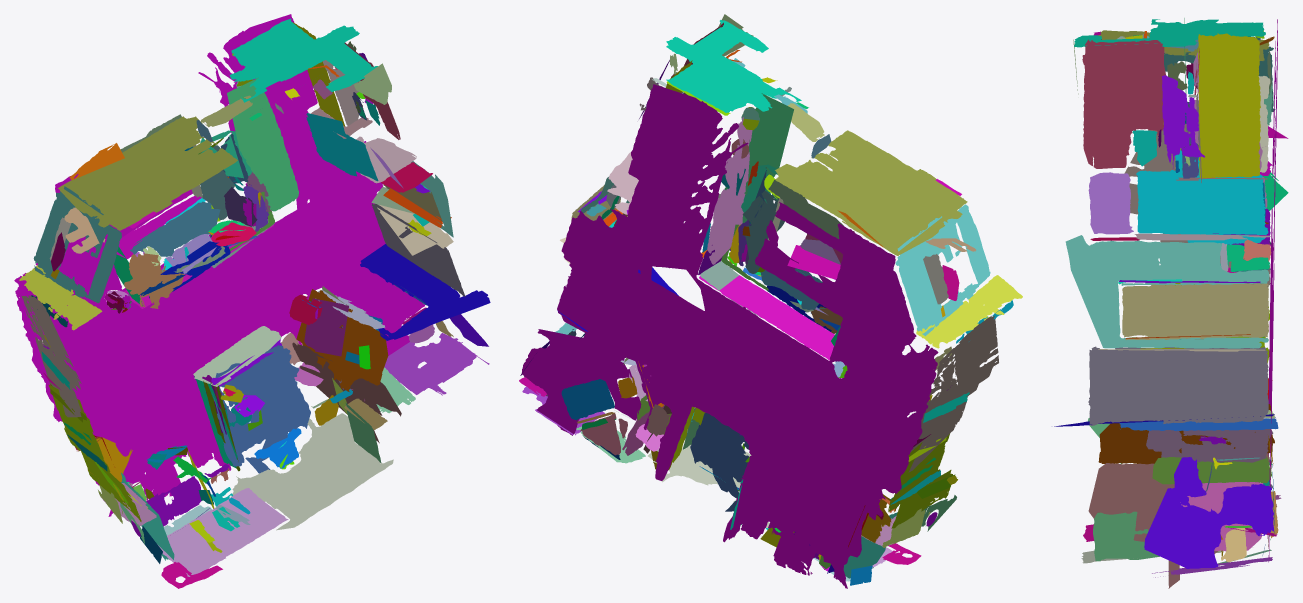
The model's file is neuralplane_scene0000.glb.
3 views of the same model, side by side, from view 1: azimuth 30°, elevation 25°; view 2: azimuth 150°, elevation 25°; view 3: azimuth 270°, elevation 25° (orthographic). The views are drawn at different scales.
Bounding box in the file's own units: 8.26 × 8.72 × 3.03.
